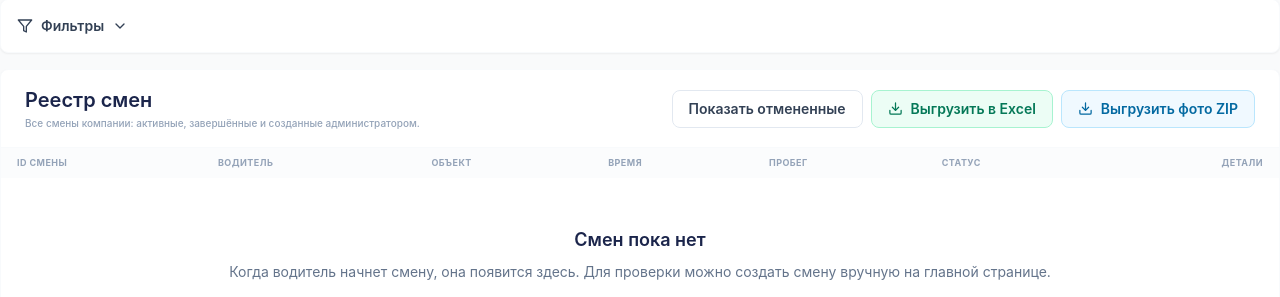
Test: Shifts cancelled visibility › shows cancelled rows with a visible reason when the quick toggle is enabled
Click the button "Показать отмененные".
click(767, 108)  # box [672, 90, 863, 128]
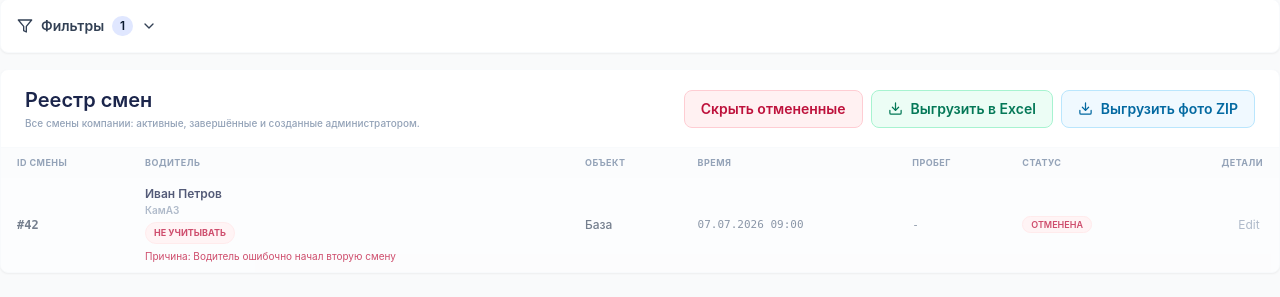
Now the text "ОТМЕНЕНА" is shown, box [1022, 216, 1092, 233]
Now the text "Причина: Водитель ошибочно начал вторую смену" is shown, box [145, 248, 433, 264]
Now the text "НЕ УЧИТЫВАТЬ" is shown, box [145, 222, 235, 244]
